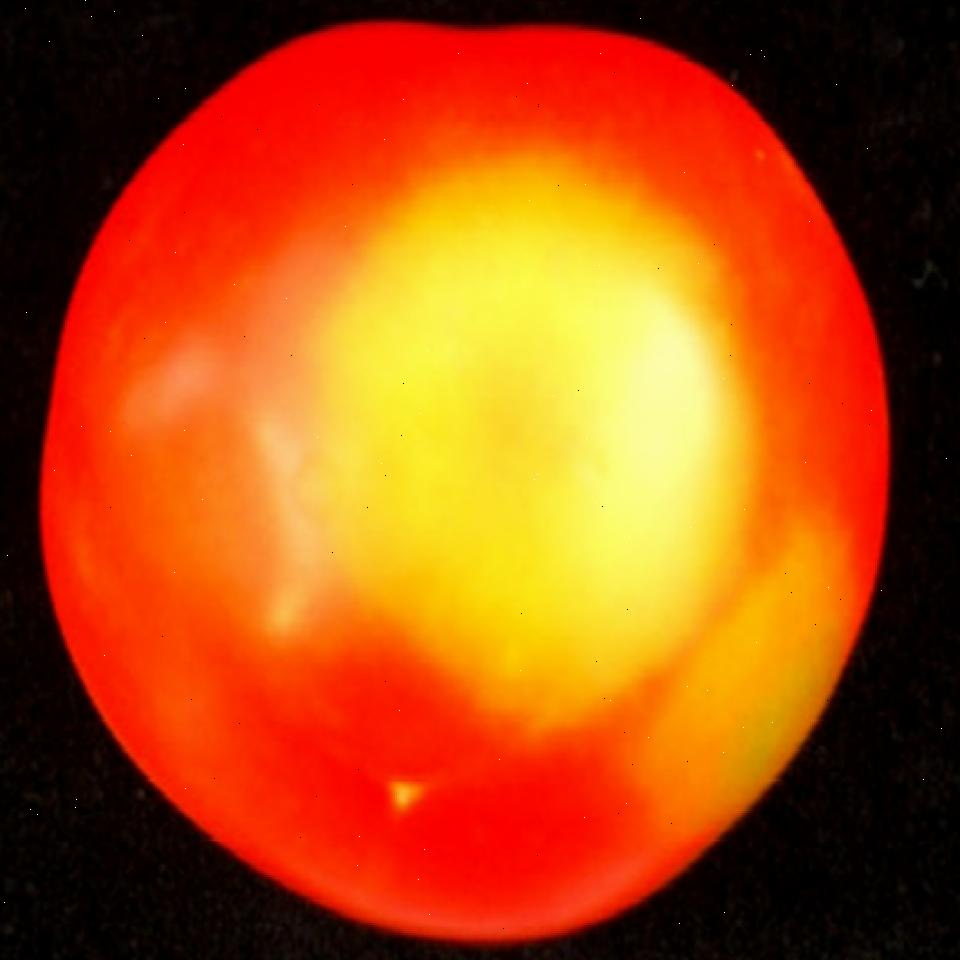Spotted wilt Virus: (40, 23, 888, 946)
